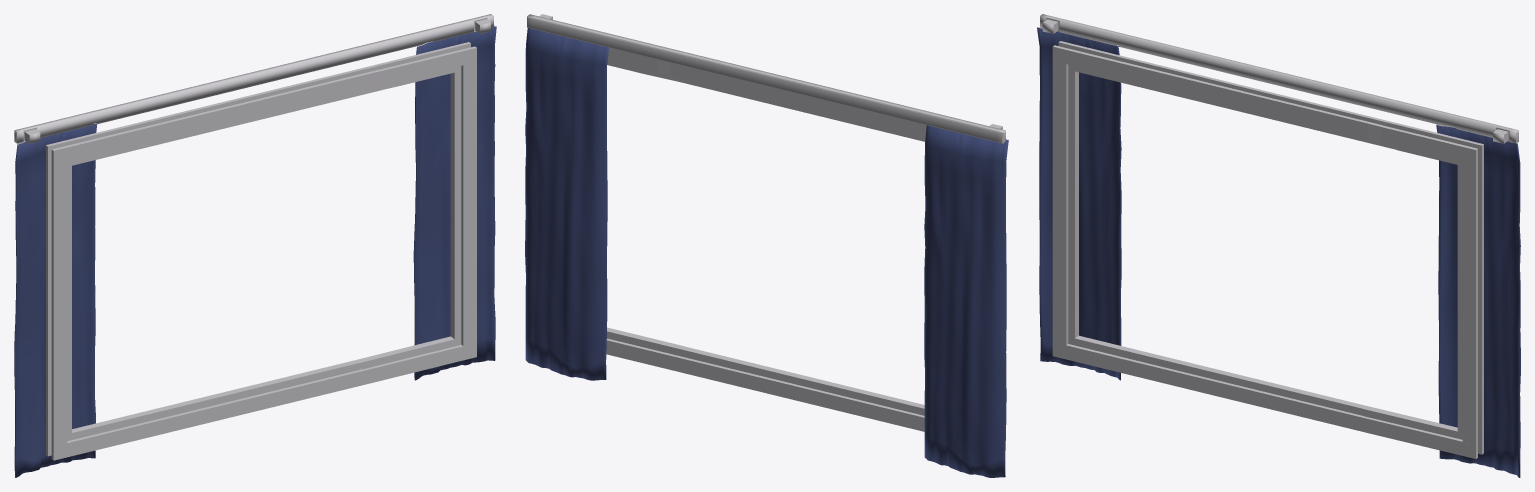
File: window_frame.obj
3 renders of one model, left to right at view 1: azimuth 30°, elevation 25°; view 2: azimuth 150°, elevation 25°; view 3: azimuth 330°, elevation 25°, orthographic.
Visible parts, largest first — view 1: WindowFrame_bedroom; view 2: WindowFrame_bedroom; view 3: WindowFrame_bedroom.
Part boxes in pixels (x1=…): WindowFrame_bedroom: x1=14, y1=14, x2=496, y2=477; WindowFrame_bedroom: x1=525, y1=14, x2=1008, y2=477; WindowFrame_bedroom: x1=1037, y1=14, x2=1520, y2=477.
Size of the model in its own units: 3.77 by 2.6 by 0.2563.
Materials: 2 (2 with a texture image).
